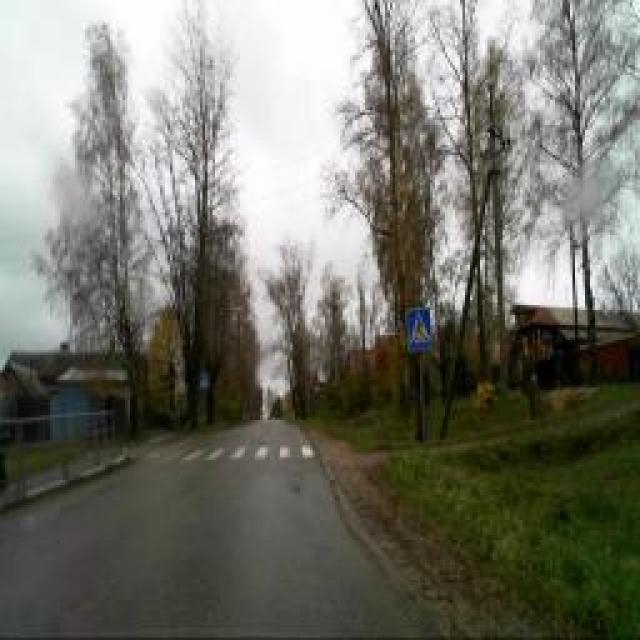sign: (405, 305, 433, 353), (198, 372, 208, 386)
